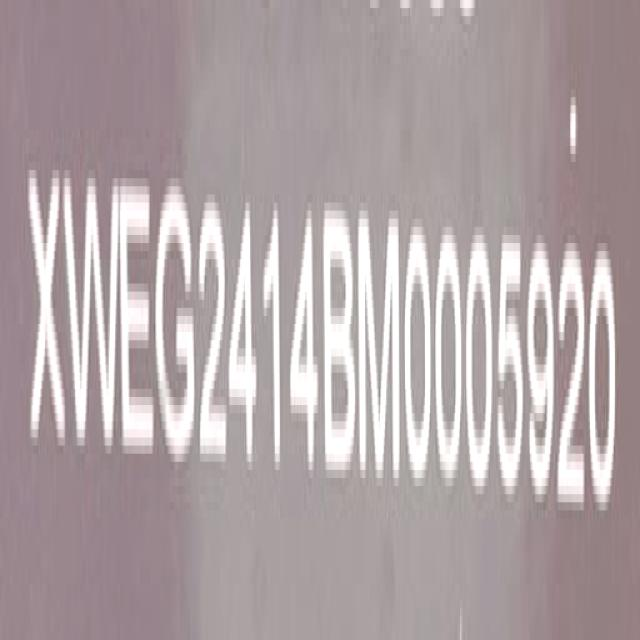0: (403, 217, 433, 490), (466, 228, 495, 496), (589, 246, 618, 505), (436, 224, 464, 491)
1: (260, 192, 284, 479)
2: (198, 197, 231, 475), (558, 245, 588, 511)
4: (291, 196, 324, 484), (228, 196, 258, 481)
5: (498, 226, 526, 500)
9: (527, 241, 555, 505)
B: (323, 198, 358, 486)
E: (121, 178, 158, 470)
G: (156, 180, 197, 470)
M: (358, 183, 400, 489)
W: (64, 164, 120, 458)
X: (28, 162, 66, 466)
